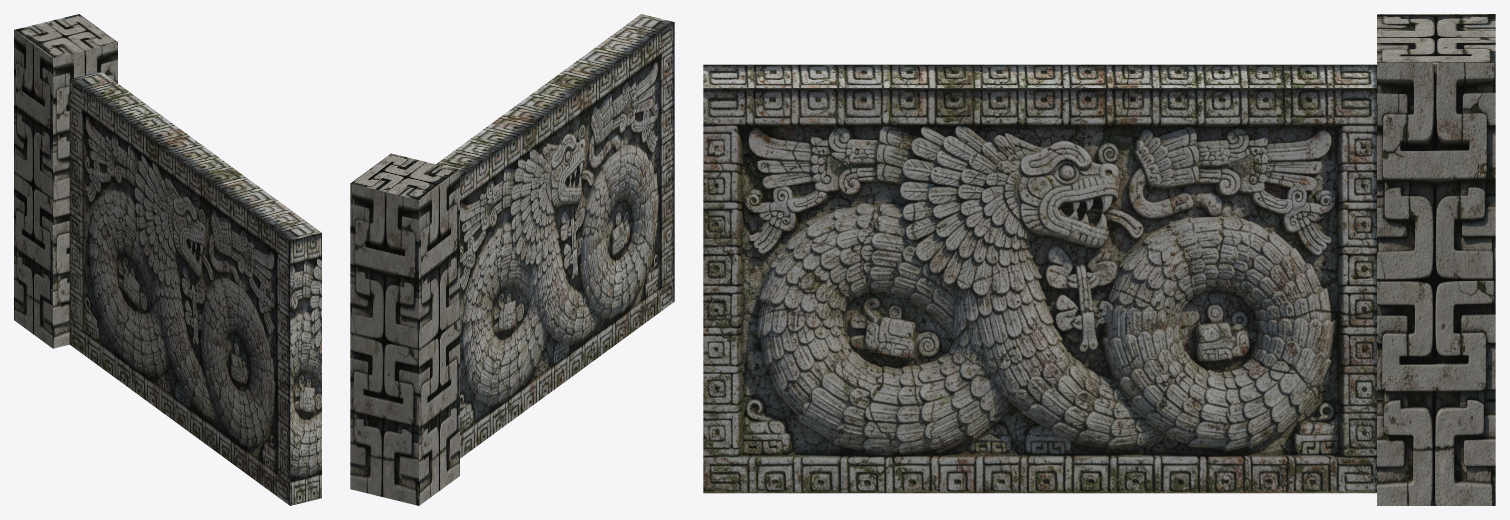
Rendered from MuroPrehispanico.fbx.
The picture shows the model from 3 angles, left to right: view 1: azimuth 30°, elevation 25°; view 2: azimuth 150°, elevation 25°; view 3: azimuth 270°, elevation 25°; orthographic projection. The views are drawn at different scales.
Visible parts, largest first — view 1: Cubo.005, Cubo.003; view 2: Cubo.005, Cubo.003; view 3: Cubo.005, Cubo.003.
Boxes of the visible parts, left/top/right/bottom form: Cubo.005: left=69, top=71, right=321, bottom=505; Cubo.003: left=14, top=14, right=117, bottom=348; Cubo.005: left=436, top=14, right=674, bottom=458; Cubo.003: left=350, top=153, right=459, bottom=505; Cubo.005: left=703, top=64, right=1376, bottom=493; Cubo.003: left=1377, top=14, right=1495, bottom=505.
Size of the model in its own units: 375 by 1598 by 2587.
